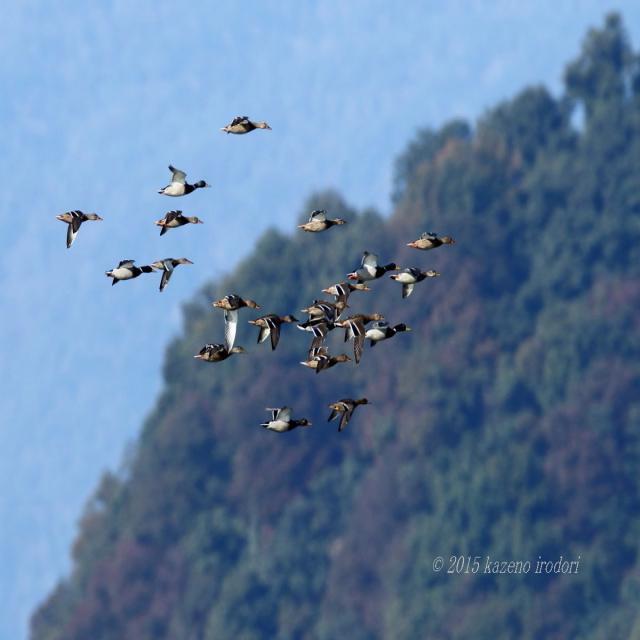bird: (194, 295, 257, 351), (346, 318, 410, 362), (142, 256, 195, 292), (157, 166, 213, 200), (54, 210, 101, 249), (388, 267, 440, 302), (247, 314, 290, 350), (194, 341, 249, 367), (327, 397, 368, 431), (295, 348, 343, 377), (259, 406, 306, 435), (156, 210, 204, 238), (298, 210, 347, 237), (297, 319, 349, 343), (347, 251, 385, 283), (220, 118, 274, 140), (105, 258, 142, 288), (322, 279, 368, 303), (301, 297, 346, 321), (411, 229, 457, 252)
